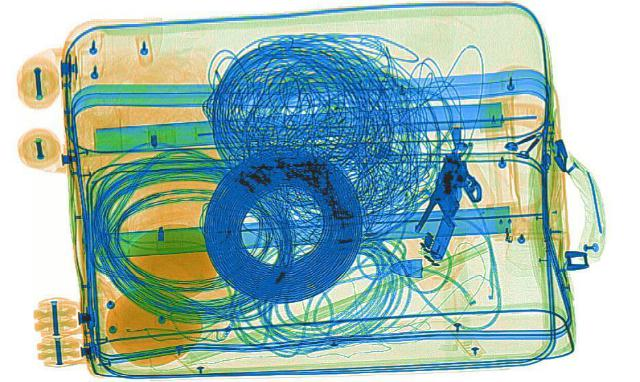Gun: (392, 152, 501, 240)
